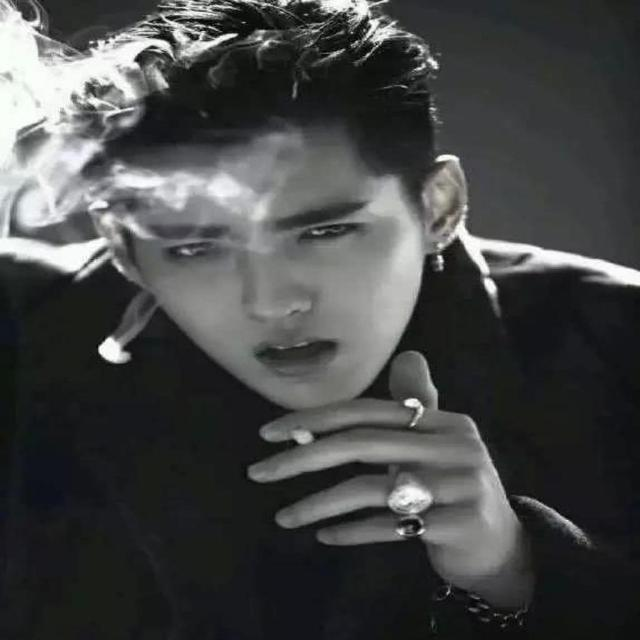smoking: (59, 25, 508, 568)
